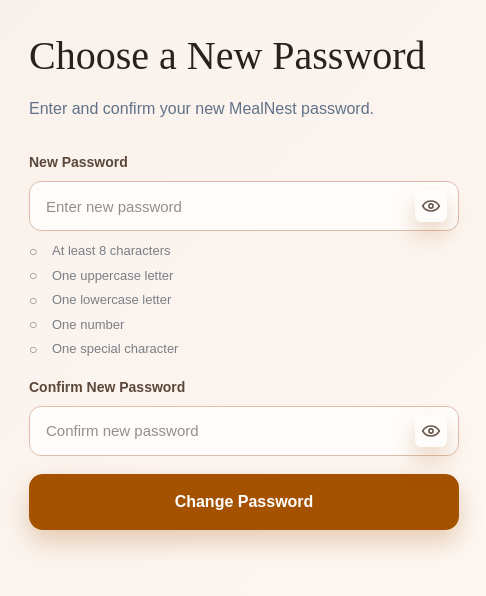
Test: validates matching strong passwords before submitting
The width and height of the screenshot is (486, 596).
Type "NewSecret2@" into the password field labelled "New Password". click: coordinates (244, 206)
box: [29,181,459,231]
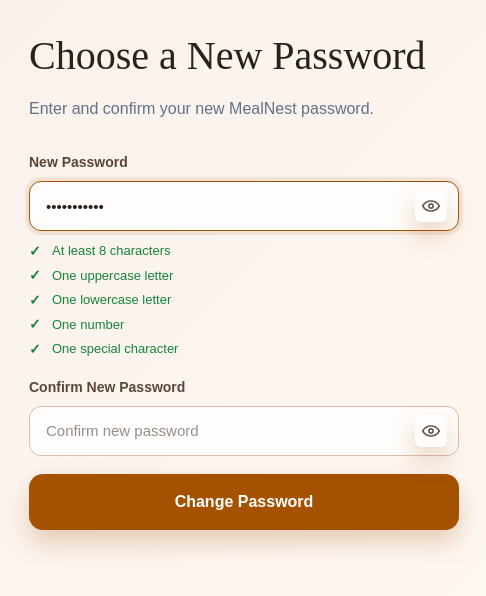
Type "Different3#" into the password field labelled "Confirm New Password". click: coordinates (244, 430)
box: [29,406,459,456]
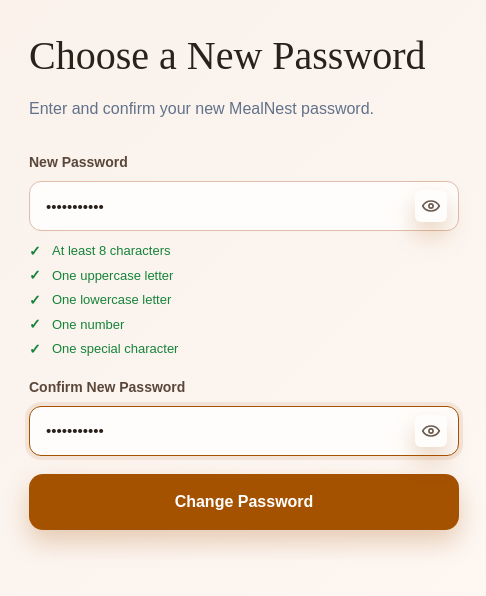
Click the button "Change Password". click: coordinates (244, 502)
box: [29,474,459,530]
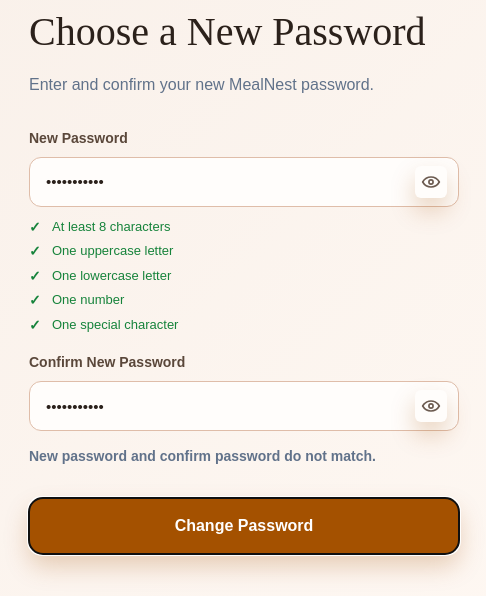
Expected: the message reads "New password and confirm password do not match.", [29,448,376,464]
